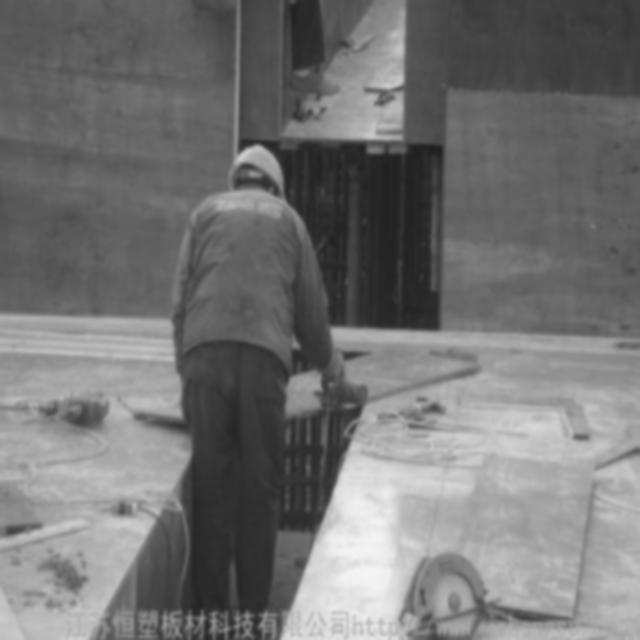head: (219, 143, 290, 210)
